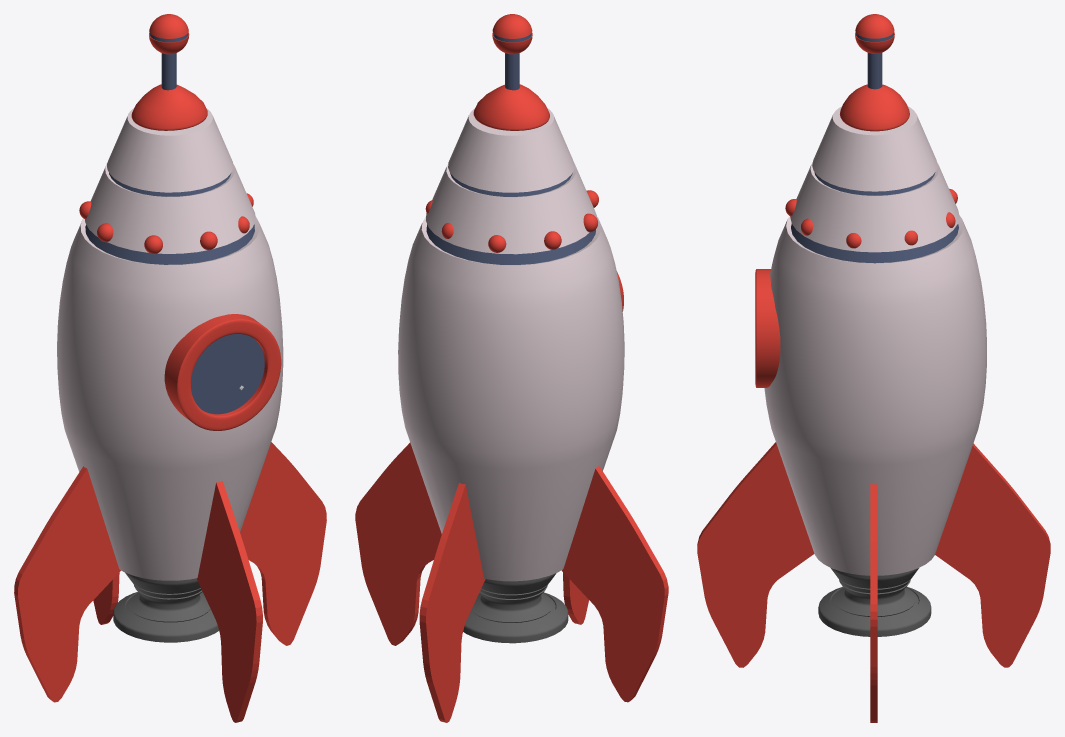
Rendered from rocket.gltf.
3 renders of one model, left to right at view 1: azimuth 30°, elevation 25°; view 2: azimuth 150°, elevation 25°; view 3: azimuth 270°, elevation 25°, orthographic.
Parts seen in each view (by area): view 1: Cylinder_Cylinder.001, Plane.002_Plane.003, Plane, Cylinder.002_Cylinder.004, Plane.003_Plane.004, Cylinder.003_Cylinder.005, Sphere, Sphere.001, Sphere.002, Plane.001_Plane.002, Cylinder.001_Cylinder.003; view 2: Cylinder_Cylinder.001, Plane.002_Plane.003, Plane, Plane.001_Plane.002, Cylinder.003_Cylinder.005, Sphere, Sphere.001, Sphere.002, Plane.003_Plane.004, Cylinder.001_Cylinder.003; view 3: Cylinder_Cylinder.001, Plane.003_Plane.004, Plane.001_Plane.002, Cylinder.003_Cylinder.005, Cylinder.002_Cylinder.004, Sphere, Plane, Sphere.001, Sphere.002, Cylinder.001_Cylinder.003.
Boxes of the visible parts, x1=… form: Cylinder_Cylinder.001: x1=57, y1=108, x2=283, y2=580; Plane.002_Plane.003: x1=14, y1=466, x2=120, y2=702; Plane: x1=240, y1=442, x2=326, y2=645; Cylinder.002_Cylinder.004: x1=164, y1=314, x2=281, y2=430; Plane.003_Plane.004: x1=196, y1=481, x2=262, y2=722; Cylinder.003_Cylinder.005: x1=113, y1=572, x2=218, y2=642; Sphere: x1=131, y1=84, x2=207, y2=130; Sphere.001: x1=149, y1=14, x2=189, y2=54; Sphere.002: x1=79, y1=193, x2=253, y2=254; Plane.001_Plane.002: x1=93, y1=572, x2=119, y2=624; Cylinder.001_Cylinder.003: x1=161, y1=53, x2=176, y2=90; Cylinder_Cylinder.001: x1=398, y1=108, x2=624, y2=581; Plane.002_Plane.003: x1=562, y1=466, x2=668, y2=702; Plane: x1=355, y1=442, x2=441, y2=645; Plane.001_Plane.002: x1=419, y1=483, x2=485, y2=722; Cylinder.003_Cylinder.005: x1=463, y1=573, x2=568, y2=643; Sphere: x1=473, y1=84, x2=549, y2=130; Sphere.001: x1=492, y1=14, x2=532, y2=54; Sphere.002: x1=425, y1=190, x2=598, y2=252; Plane.003_Plane.004: x1=563, y1=572, x2=588, y2=624; Cylinder.001_Cylinder.003: x1=505, y1=53, x2=519, y2=90; Cylinder_Cylinder.001: x1=764, y1=106, x2=986, y2=575; Plane.003_Plane.004: x1=697, y1=442, x2=814, y2=667; Plane.001_Plane.002: x1=935, y1=443, x2=1050, y2=667; Cylinder.003_Cylinder.005: x1=818, y1=568, x2=931, y2=636; Cylinder.002_Cylinder.004: x1=755, y1=269, x2=780, y2=387; Sphere: x1=840, y1=84, x2=909, y2=131; Plane: x1=870, y1=484, x2=877, y2=722; Sphere.001: x1=855, y1=14, x2=894, y2=53; Sphere.002: x1=785, y1=188, x2=957, y2=248; Cylinder.001_Cylinder.003: x1=867, y1=53, x2=882, y2=89.
Size of the model in its own units: 0.3741 by 0.7597 by 0.3741.
